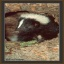skunk: (5, 12, 58, 40)
